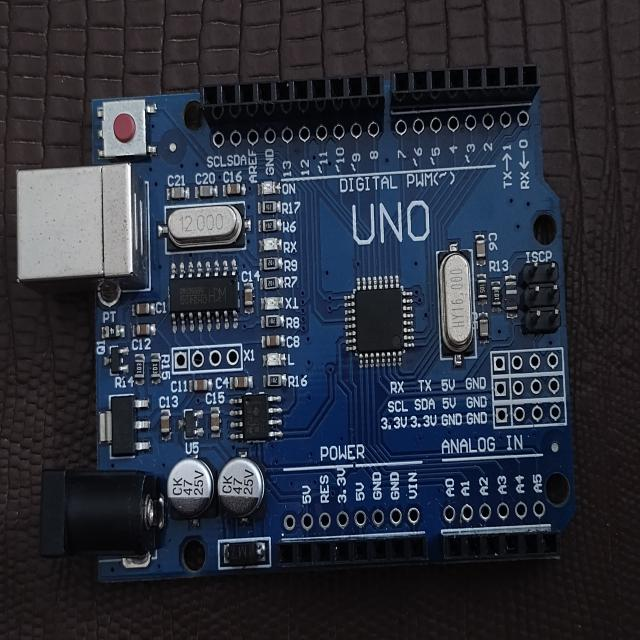arduino: (11, 51, 578, 591)
